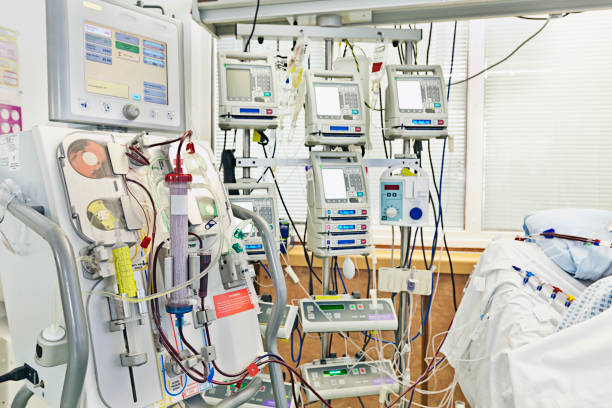bedside_monitor: (46, 1, 186, 130)
hospital_bed: (493, 208, 612, 382)
infusion_pump: (393, 62, 462, 136), (218, 62, 287, 136), (217, 182, 286, 255), (300, 66, 368, 140), (307, 151, 374, 220)
